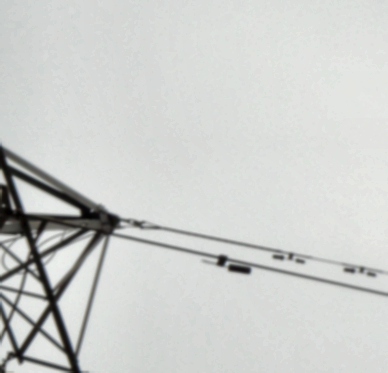damper: (271, 251, 310, 266), (341, 264, 378, 277)
damper_defect: (197, 252, 253, 277)
